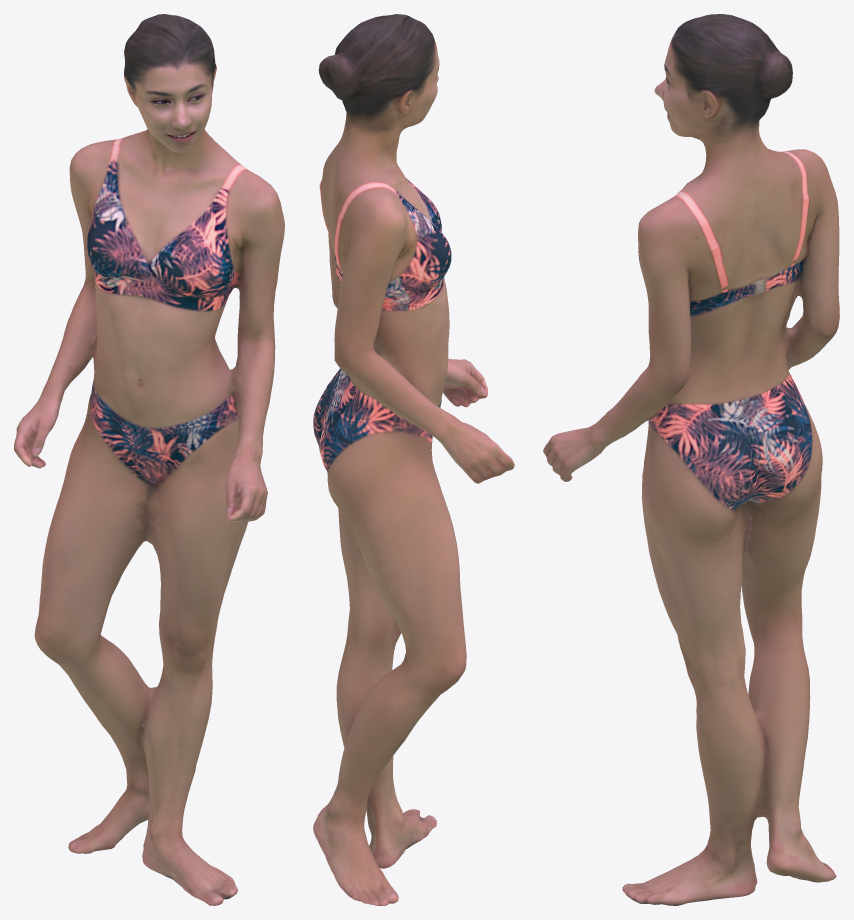
The model's file is bikini.glb.
3 views of the same model, side by side, from view 1: azimuth 30°, elevation 25°; view 2: azimuth 150°, elevation 25°; view 3: azimuth 270°, elevation 25° (orthographic). The views are drawn at different scales.
Parts seen in each view (by area): view 1: Frame_0205; view 2: Frame_0205; view 3: Frame_0205.
Boxes of the visible parts, left/top/right/bottom form: Frame_0205: left=14, top=14, right=284, bottom=905; Frame_0205: left=313, top=14, right=514, bottom=905; Frame_0205: left=543, top=14, right=839, bottom=905.
Size of the model in its own units: 0.4702 by 1.7 by 0.5229.
1 material, 1 textured.
